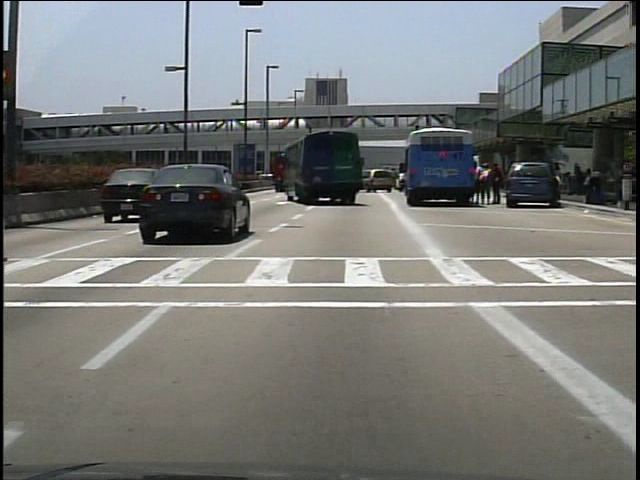person: (475, 160, 490, 205), (487, 163, 502, 207), (553, 165, 566, 204)
